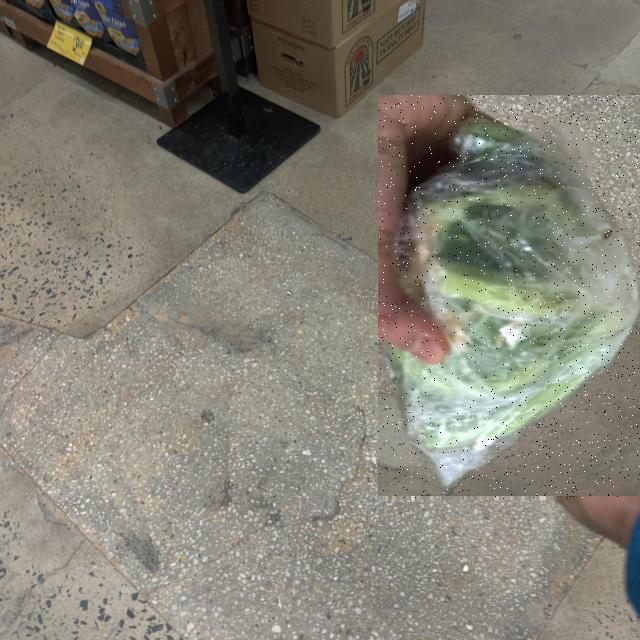Cauliflower: (378, 96, 640, 500)
